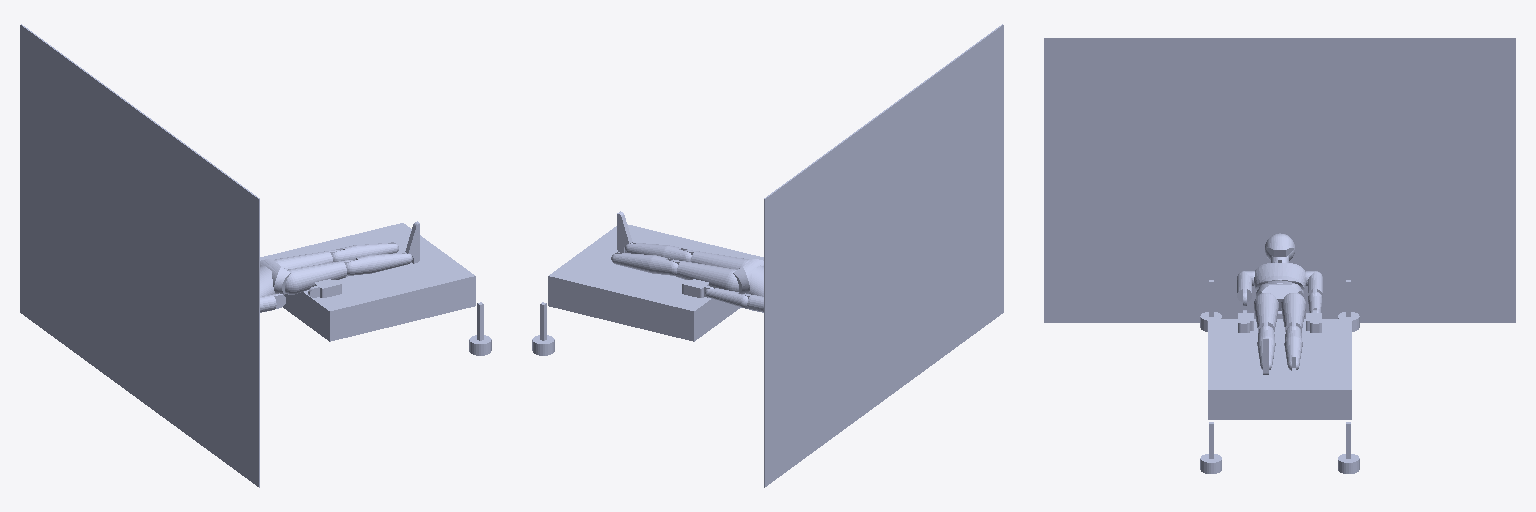
--- Render facts (derived) ---
3 views of the same robot in one strip: view 1: azimuth 30°, elevation 25°; view 2: azimuth 150°, elevation 25°; view 3: azimuth 270°, elevation 25° (orthographic).
Model bed_and_body_v3 with 26 links and 25 joints (20 revolute, 3 prismatic, 2 fixed), rooted at base_link, posed every joint at zero.
Visible links, largest first — view 1: wall_link, leg_rest_lower_link, leg_rest_upper_link, quad_right_link, calf_right_link, calf_left_link, quad_left_link, base_link; view 2: wall_link, leg_rest_lower_link, leg_rest_upper_link, quad_left_link, calf_left_link, calf_right_link, quad_right_link, base_link; view 3: wall_link, leg_rest_lower_link, leg_rest_upper_link, base_link, upper_body_link, quad_left_link, quad_right_link, calf_left_link, head_link.
Boxes of the visible links, box(x1,y1,x2,y2) form: wall_link: box(20, 24, 259, 487); leg_rest_lower_link: box(309, 223, 475, 328); leg_rest_upper_link: box(260, 246, 380, 341); quad_right_link: box(285, 260, 352, 294); calf_right_link: box(346, 253, 412, 275); calf_left_link: box(332, 242, 398, 261); quad_left_link: box(274, 250, 339, 269); base_link: box(469, 302, 491, 355); wall_link: box(764, 24, 1003, 487); leg_rest_lower_link: box(548, 224, 714, 328); leg_rest_upper_link: box(643, 246, 763, 341); quad_left_link: box(671, 260, 738, 291); calf_left_link: box(611, 252, 677, 275); calf_right_link: box(625, 242, 691, 261); quad_right_link: box(684, 250, 749, 269); base_link: box(532, 302, 554, 355); wall_link: box(1044, 38, 1515, 322); leg_rest_lower_link: box(1208, 344, 1351, 419); leg_rest_upper_link: box(1208, 319, 1351, 343); base_link: box(1200, 280, 1359, 473); upper_body_link: box(1254, 263, 1305, 291); quad_left_link: box(1281, 293, 1305, 332); quad_right_link: box(1254, 293, 1278, 332); calf_left_link: box(1284, 326, 1302, 370); head_link: box(1265, 233, 1294, 260).
Size in the robot's own frame: 2.29 by 3 by 2 metres.
Meshes: 24 distinct files referenced, 19 mesh visuals loaded (19 binary STL); not drawn: 5 (reference not matched to a file when rendering).

The robot description file, URDF, robot "bed_and_body_v3":
<robot
  name="bed_and_body_v3">
  <link
    name="base_link">
    <inertial>
      <origin
        xyz="1.07 -1.1433776843867E-16 0.0654891108010717"
        rpy="0 0 0" />
      <mass
        value="5.8260172808288" />
      <inertia
        ixx="1.14927006759014"
        ixy="4.44089209850063E-16"
        ixz="-2.75515108570424E-16"
        iyy="6.70434113225239"
        iyz="-1.34851165646458E-15"
        izz="7.79754704731756" />
    </inertial>
    <visual>
      <origin
        xyz="0 0 0"
        rpy="0 0 0" />
      <geometry>
        <mesh
          filename="package://hrl_base_selection/urdf/bed_and_body_v3/meshes/base_link.STL" />
      </geometry>
      <material
        name="">
        <color
          rgba="0.792156862745098 0.819607843137255 0.933333333333333 1" />
      </material>
    </visual>
    <collision>
      <origin
        xyz="0 0 0"
        rpy="0 0 0" />
      <geometry>
        <mesh
          filename="package://hrl_base_selection/urdf/bed_and_body_v3/meshes/base_link.STL" />
      </geometry>
    </collision>
  </link>
  <link
    name="wall_link">
    <inertial>
      <origin
        xyz="0. 0. 0."
        rpy="0 0 0" />
      <mass
        value="182.783" />
      <inertia
        ixx="14.1727036705024"
        ixy="3.00274731894519E-14"
        ixz="-0.582878793213973"
        iyy="75.8057802285568"
        iyz="9.93663151183257E-16"
        izz="86.6905817538877" />
    </inertial>
    <visual>
      <origin
        xyz="0 0 0"
        rpy="0 0 0" />
      <geometry>
        <mesh
          filename="package://hrl_base_selection/urdf/bed_and_body_v3/meshes/wall.stl" />
      </geometry>
      <material
        name="">
        <color
          rgba="0.792156862745098 0.819607843137255 0.933333333333333 1" />
      </material>
    </visual>
    <collision>
      <origin
        xyz="0 0 0"
        rpy="0 0 0" />
      <geometry>
        <mesh
          filename="package://hrl_base_selection/urdf/bed_and_body_v3/meshes/wall.stl" />
      </geometry>
    </collision>
  </link>
  <joint
    name="origin_wall_joint"
    type="fixed">
    <origin
      xyz="-.075 0. 0"
      rpy="0. 0. 0." />
    <parent
      link="base_link" />
    <child
      link="wall_link" />
    <axis
      xyz="0 0 0" />
  </joint>
  <link
    name="bed_frame_link">
    <inertial>
      <origin
        xyz="1.0399 -0.27375 0.088166"
        rpy="0 0 0" />
      <mass
        value="182.783" />
      <inertia
        ixx="14.1727036705024"
        ixy="3.00274731894519E-14"
        ixz="-0.582878793213973"
        iyy="75.8057802285568"
        iyz="9.93663151183257E-16"
        izz="86.6905817538877" />
    </inertial>
    <visual>
      <origin
        xyz="0 0 0"
        rpy="0 0 0" />
      <geometry>
        <mesh
          filename="package://hrl_base_selection/urdf/bed_and_body_v3/meshes/bed_frame_link.STL" />
      </geometry>
      <material
        name="">
        <color
          rgba="0.792156862745098 0.819607843137255 0.933333333333333 1" />
      </material>
    </visual>
    <collision>
      <origin
        xyz="0 0 0"
        rpy="0 0 0" />
      <geometry>
        <mesh
          filename="package://hrl_base_selection/urdf/bed_and_body_v3/meshes/bed_frame_link.STL" />
      </geometry>
    </collision>
  </link>
  <joint
    name="tele_legs_joint"
    type="prismatic">
    <origin
      xyz="-0.02 .27375 0.2805"
      rpy="0 0 0" />
    <parent
      link="base_link" />
    <child
      link="bed_frame_link" />
    <axis
      xyz="0 0 1" />
    <limit
      lower="-1"
      upper="1"
      effort="0"
      velocity="0" />
  </joint>
  <link
    name="head_rest_link">
    <inertial>
      <origin
        xyz="0.372569569871449 -0.0933538492374752 -3.9665323774659E-16"
        rpy="0 0 0" />
      <mass
        value="152.153755040103" />
      <inertia
        ixx="11.3335835372931"
        ixy="0.223420816611719"
        ixz="-1.53371591687193E-15"
        iyy="16.9421346103201"
        iyz="-3.30400962622086E-15"
        izz="7.04456355370477" />
    </inertial>
    <visual>
      <origin
        xyz="0 0 0"
        rpy="0 0 0" />
      <geometry>
        <mesh
          filename="package://hrl_base_selection/urdf/bed_and_body_v3/meshes/head_rest_link.STL" />
      </geometry>
      <material
        name="">
        <color
          rgba="0.792156862745098 0.819607843137255 0.933333333333333 1" />
      </material>
    </visual>
    <collision>
      <origin
        xyz="0 0 0"
        rpy="0 0 0" />
      <geometry>
        <mesh
          filename="package://hrl_base_selection/urdf/bed_and_body_v3/meshes/head_rest_link.STL" />
      </geometry>
    </collision>
  </link>
  <joint
    name="head_rest_hinge"
    type="revolute">
    <origin
      xyz="0.775 -.27375 0.26"
      rpy="1.5708 1.0561E-10 3.1416" />
    <parent
      link="bed_frame_link" />
    <child
      link="head_rest_link" />
    <axis
      xyz="0 0 1" />
    <limit
      lower="-2"
      upper="2"
      effort="0"
      velocity="0" />
  </joint>
  <link
    name="head_updown_translation_link">
    <inertial>
      <origin
        xyz="0.102906766161206 -9.91266292424373E-09 -0.0297782124304694"
        rpy="0 0 0" />
      <mass
        value="3.9328527892651" />
      <inertia
        ixx="0.0179544834914724"
        ixy="-5.43457600009831E-10"
        ixz="-0.00240657860486129"
        iyy="0.0177023015774365"
        iyz="-5.46748238349167E-09"
        izz="0.0152180232656692" />
    </inertial>
  </link>
  <joint
    name="head_bed_updown_joint"
    type="prismatic">
    <origin
      xyz="0.49949 0.05 0"
      rpy="1.5708 -2.9674E-16 1.5708" />
    <parent
      link="head_rest_link" />
    <child
      link="head_updown_translation_link" />
    <axis
      xyz="0 0 -1" />
    <limit
      lower="-2"
      upper="2"
      effort="0"
      velocity="0" />
  </joint>
  <link
    name="head_leftright_translation_link">
    <inertial>
      <origin
        xyz="0.102906766161206 0.0297782124304694 -9.912662920814E-09"
        rpy="0 0 0" />
      <mass
        value="3.9328527892651" />
      <inertia
        ixx="0.0179544834914724"
        ixy="0.00240657860486129"
        ixz="-5.43457600415785E-10"
        iyy="0.0152180232656692"
        iyz="5.46748238053038E-09"
        izz="0.0177023015774365" />
    </inertial>
  </link>
  <joint
    name="head_bed_leftright_joint"
    type="prismatic">
    <origin
      xyz="0 0 0"
      rpy="-1.5708 -1.0548E-16 7.5835E-18" />
    <parent
      link="head_updown_translation_link" />
    <child
      link="head_leftright_translation_link" />
    <axis
      xyz="0 0 1" />
    <limit
      lower="-2"
      upper="2"
      effort="0"
      velocity="0" />
  </joint>
  <link
    name="head_link">
    <inertial>
      <origin
        xyz="0.00931747164111318 -9.91266701204326E-09 0.0105706865051194"
        rpy="0 0 0" />
      <mass
        value="3.9328527892651" />
      <inertia
        ixx="0.0165678861121358"
        ixy="8.90148620513218E-10"
        ixz="-0.0027682732644648"
        iyy="0.0177023015774365"
        iyz="-5.42183952528328E-09"
        izz="0.0166046206450058" />
    </inertial>
    <visual>
      <origin
        xyz="0 0 0"
        rpy="0 0 0" />
      <geometry>
        <mesh
          filename="package://hrl_base_selection/urdf/bed_and_body_v3/meshes/head_link.STL" />
      </geometry>
      <material
        name="">
        <color
          rgba="0.792156862745098 0.819607843137255 0.933333333333333 1" />
      </material>
    </visual>
    <collision>
      <origin
        xyz="0 0 0"
        rpy="0 0 0" />
      <geometry>
        <mesh
          filename="package://hrl_base_selection/urdf/bed_and_body_v3/meshes/head_link.STL" />
      </geometry>
    </collision>
  </link>
  <joint
    name="head_contact_to_head_center"
    type="fixed">
    <origin
      xyz="0.091171 0.037577 0"
      rpy="1.5708 -3.0499E-16 0.2618" />
    <parent
      link="head_leftright_translation_link" />
    <child
      link="head_link" />
    <axis
      xyz="0 0 0" />
  </joint>
  <link
    name="neck_rotation">
    <inertial>
      <origin
        xyz="0.0299911113671753 -1.13479703411912E-09 5.25989263663437E-09"
        rpy="0 0 0" />
      <mass
        value="1.53148702191926" />
      <inertia
        ixx="0.00269322706497261"
        ixy="1.09857620830128E-10"
        ixz="7.58048241070777E-10"
        iyy="0.00564516811473134"
        iyz="9.21844170034423E-09"
        izz="0.00511128582091916" />
    </inertial>
    <visual>
      <origin
        xyz="0 0 0"
        rpy="0 0 0" />
      <geometry>
        <mesh
          filename="package://hrl_base_selection/urdf/bed_and_body_v3/meshes/neck_rotation.STL" />
      </geometry>
      <material
        name="">
        <color
          rgba="0.792156862745098 0.819607843137255 0.933333333333333 1" />
      </material>
    </visual>
    <collision>
      <origin
        xyz="0 0 0"
        rpy="0 0 0" />
      <geometry>
        <mesh
          filename="package://hrl_base_selection/urdf/bed_and_body_v3/meshes/neck_rotation.STL" />
      </geometry>
    </collision>
  </link>
  <joint
    name="head_neck_joint1"
    type="revolute">
    <origin
      xyz="-0.0254 0 -0.08509"
      rpy="-1.5708 1.1345 -3.1416" />
    <parent
      link="head_link" />
    <child
      link="neck_rotation" />
    <axis
      xyz="0 0 1" />
    <limit
      lower="-2"
      upper="2"
      effort="0"
      velocity="0" />
  </joint>
  <link
    name="neck_link">
    <inertial>
      <origin
        xyz="0.0299911113671752 -1.13479703411912E-09 5.2598925958448E-09"
        rpy="0 0 0" />
      <mass
        value="1.53148702191926" />
      <inertia
        ixx="0.00269322706497261"
        ixy="1.09857618011203E-10"
        ixz="7.58048239319453E-10"
        iyy="0.00564516811473135"
        iyz="9.2184417026311E-09"
        izz="0.00511128582091917" />
    </inertial>
    <visual>
      <origin
        xyz="0 0 0"
        rpy="0 0 0" />
      <geometry>
        <mesh
          filename="package://hrl_base_selection/urdf/bed_and_body_v3/meshes/neck_link.STL" />
      </geometry>
      <material
        name="">
        <color
          rgba="0.792156862745098 0.819607843137255 0.933333333333333 1" />
      </material>
    </visual>
    <collision>
      <origin
        xyz="0 0 0"
        rpy="0 0 0" />
      <geometry>
        <mesh
          filename="package://hrl_base_selection/urdf/bed_and_body_v3/meshes/neck_link.STL" />
      </geometry>
    </collision>
  </link>
  <joint
    name="head_neck_joint2"
    type="revolute">
    <origin
      xyz="0 0 0"
      rpy="0 3.1554E-30 0" />
    <parent
      link="neck_rotation" />
    <child
      link="neck_link" />
    <axis
      xyz="0 0 1" />
    <limit
      lower="-2"
      upper="2"
      effort="0"
      velocity="0" />
  </joint>
  <link
    name="upper_body_link">
    <inertial>
      <origin
        xyz="0.158709266111028 -2.77439784790445E-06 1.07349517852832E-06"
        rpy="0 0 0" />
      <mass
        value="10.994324812456" />
      <inertia
        ixx="0.0988263493770442"
        ixy="1.38503182626169E-06"
        ixz="-6.9051458787949E-07"
        iyy="0.107887273916327"
        iyz="1.87457468166473E-07"
        izz="0.0771158536159493" />
    </inertial>
    <visual>
      <origin
        xyz="0 0 0"
        rpy="0 0 0" />
      <geometry>
        <mesh
          filename="package://hrl_base_selection/urdf/bed_and_body_v3/meshes/upper_body_link.STL" />
      </geometry>
      <material
        name="">
        <color
          rgba="0.792156862745098 0.819607843137255 0.933333333333333 1" />
      </material>
    </visual>
    <collision>
      <origin
        xyz="0 0 0"
        rpy="0 0 0" />
      <geometry>
        <mesh
          filename="package://hrl_base_selection/urdf/bed_and_body_v3/meshes/upper_body_link.STL" />
      </geometry>
    </collision>
  </link>
  <joint
    name="neck_body_joint"
    type="revolute">
    <origin
      xyz="0.07239 0 0"
      rpy="-8.8242E-17 -8.2927E-14 0.66506" />
    <parent
      link="neck_link" />
    <child
      link="upper_body_link" />
    <axis
      xyz="0 0 -1" />
    <limit
      lower="-2"
      upper="2"
      effort="0"
      velocity="0" />
  </joint>
  <link
    name="mid_body_link">
    <inertial>
      <origin
        xyz="-0.0123598486303793 -2.47973091949127E-07 4.77082923404006E-06"
        rpy="0 0 0" />
      <mass
        value="6.7659491084038" />
      <inertia
        ixx="0.0508733259634872"
        ixy="-3.30920427328747E-07"
        ixz="-1.38996093328425E-06"
        iyy="0.0489774373986986"
        iyz="-1.12269337166179E-05"
        izz="0.0317417004953391" />
    </inertial>
    <visual>
      <origin
        xyz="0 0 0"
        rpy="0 0 0" />
      <geometry>
        <mesh
          filename="package://hrl_base_selection/urdf/bed_and_body_v3/meshes/mid_body_link.STL" />
      </geometry>
      <material
        name="">
        <color
          rgba="0.792156862745098 0.819607843137255 0.933333333333333 1" />
      </material>
    </visual>
    <collision>
      <origin
        xyz="0 0 0"
        rpy="0 0 0" />
      <geometry>
        <mesh
          filename="package://hrl_base_selection/urdf/bed_and_body_v3/meshes/mid_body_link.STL" />
      </geometry>
    </collision>
  </link>
  <joint
    name="upper_mid_body_joint"
    type="revolute">
    <origin
      xyz="0.35052 0 0"
      rpy="2.8327E-14 7.7949E-14 0.34907" />
    <parent
      link="upper_body_link" />
    <child
      link="mid_body_link" />
    <axis
      xyz="0 0 -1" />
    <limit
      lower="-2"
      upper="2"
      effort="0"
      velocity="0" />
  </joint>
  <link
    name="lower_body_link">
    <inertial>
      <origin
        xyz="-0.0424892964347593 -1.55212564689755E-07 -3.05517167826124E-08"
        rpy="0 0 0" />
      <mass
        value="3.76095443118537" />
      <inertia
        ixx="0.0264188029132303"
        ixy="5.26534020954018E-07"
        ixz="1.13275130192356E-08"
        iyy="0.021880217675706"
        iyz="6.6476429005472E-06"
        izz="0.0115760285735275" />
    </inertial>
    <visual>
      <origin
        xyz="0 0 0"
        rpy="0 0 0" />
      <geometry>
        <mesh
          filename="package://hrl_base_selection/urdf/bed_and_body_v3/meshes/lower_body_link.STL" />
      </geometry>
      <material
        name="">
        <color
          rgba="0.792156862745098 0.819607843137255 0.933333333333333 1" />
      </material>
    </visual>
    <collision>
      <origin
        xyz="0 0 0"
        rpy="0 0 0" />
      <geometry>
        <mesh
          filename="package://hrl_base_selection/urdf/bed_and_body_v3/meshes/lower_body_link.STL" />
      </geometry>
    </collision>
  </link>
  <joint
    name="mid_lower_body_joint"
    type="revolute">
    <origin
      xyz="0.15113 0 0"
      rpy="-4.3091E-16 1.669E-15 -0.57779" />
    <parent
      link="mid_body_link" />
    <child
      link="lower_body_link" />
    <axis
      xyz="0 0 -1" />
    <limit
      lower="-2"
      upper="2"
      effort="0"
      velocity="0" />
  </joint>
  <link
    name="quad_left_link">
    <inertial>
      <origin
        xyz="0.135870836223123 0.036406480838746 1.20320420293751E-14"
        rpy="0 0 0" />
      <mass
        value="6.89674952703915" />
      <inertia
        ixx="0.0241142535313263"
        ixy="0.0272592576621165"
        ixz="-8.25751406148771E-11"
        iyy="0.118543092031703"
        iyz="3.08210707771496E-10"
        izz="0.126021276865764" />
    </inertial>
    <visual>
      <origin
        xyz="0 0 0"
        rpy="0 0 0" />
      <geometry>
        <mesh
          filename="package://hrl_base_selection/urdf/bed_and_body_v3/meshes/quad_left_link.STL" />
      </geometry>
      <material
        name="">
        <color
          rgba="0.792156862745098 0.819607843137255 0.933333333333333 1" />
      </material>
    </visual>
    <collision>
      <origin
        xyz="0 0 0"
        rpy="0 0 0" />
      <geometry>
        <mesh
          filename="package://hrl_base_selection/urdf/bed_and_body_v3/meshes/quad_left_link.STL" />
      </geometry>
    </collision>
  </link>
  <joint
    name="body_quad_left_joint"
    type="revolute">
    <origin
      xyz="0.05207 0 -0.08636"
      rpy="-3.1554E-30 -3.1554E-30 -2.7756E-17" />
    <parent
      link="lower_body_link" />
    <child
      link="quad_left_link" />
    <axis
      xyz="0 0 1" />
    <limit
      lower="-3."
      upper="3."
      effort="0"
      velocity="0" />
  </joint>
  <link
    name="calf_left_link">
    <inertial>
      <origin
        xyz="-0.180906642816524 -0.0139713255979246 1.60067792354113E-12"
        rpy="0 0 0" />
      <mass
        value="3.39536669784164" />
      <inertia
        ixx="0.0049226177583511"
        ixy="0.00333413184068126"
        ixz="1.26232091450053E-12"
        iyy="0.0478368760783845"
        iyz="-4.13932285075363E-12"
        izz="0.0478732548846709" />
    </inertial>
    <visual>
      <origin
        xyz="0 0 0"
        rpy="0 0 0" />
      <geometry>
        <mesh
          filename="package://hrl_base_selection/urdf/bed_and_body_v3/meshes/calf_left_link.STL" />
      </geometry>
      <material
        name="">
        <color
          rgba="0.792156862745098 0.819607843137255 0.933333333333333 1" />
      </material>
    </visual>
    <collision>
      <origin
        xyz="0 0 0"
        rpy="0 0 0" />
      <geometry>
        <mesh
          filename="package://hrl_base_selection/urdf/bed_and_body_v3/meshes/calf_left_link.STL" />
      </geometry>
    </collision>
  </link>
  <joint
    name="quad_calf_left_joint"
    type="revolute">
    <origin
      xyz="0.41218 0.11044 0"
      rpy="3.1416 8.5469E-14 -2.8798" />
    <parent
      link="quad_left_link" />
    <child
      link="calf_left_link" />
    <axis
      xyz="0 0 1" />
    <limit
      lower="-3."
      upper="3."
      effort="0"
      velocity="0" />
  </joint>
  <link
    name="foot_left_link">
    <inertial>
      <origin
        xyz="-0.0475610965067932 0.0816676483447464 -4.16333634234434E-17"
        rpy="0 0 0" />
      <mass
        value="0.615189243278472" />
      <inertia
        ixx="0.00304936402573348"
        ixy="-0.000154899374275574"
        ixz="1.7446046542978E-19"
        iyy="0.000412328810634253"
        iyz="-3.97105362266834E-20"
        izz="0.00332455031530266" />
    </inertial>
    <visual>
      <origin
        xyz="0 0 0"
        rpy="0 0 0" />
      <geometry>
        <mesh
          filename="package://hrl_base_selection/urdf/bed_and_body_v3/meshes/foot_left_link.STL" />
      </geometry>
      <material
        name="">
        <color
          rgba="0.792156862745098 0.819607843137255 0.933333333333333 1" />
      </material>
    </visual>
    <collision>
      <origin
        xyz="0 0 0"
        rpy="0 0 0" />
      <geometry>
        <mesh
          filename="package://hrl_base_selection/urdf/bed_and_body_v3/meshes/foot_left_link.STL" />
      </geometry>
    </collision>
  </link>
  <joint
    name="calf_foot_left_joint"
    type="revolute">
    <origin
      xyz="-0.41279 -0.03188 0"
      rpy="2.4608E-16 9.411E-16 0.077076" />
    <parent
      link="calf_left_link" />
    <child
      link="foot_left_link" />
    <axis
      xyz="0 0 1" />
    <limit
      lower="-3."
      upper="3."
      effort="0"
      velocity="0" />
  </joint>
  <link
    name="quad_right_link">
    <inertial>
      <origin
        xyz="0.13587083622245 0.0364064808391208 1.19904086659517E-14"
        rpy="0 0 0" />
      <mass
        value="6.89674952703915" />
      <inertia
        ixx="0.024114253531194"
        ixy="0.0272592576618873"
        ixz="-8.2575179988774E-11"
        iyy="0.118543092031835"
        iyz="3.08210697239393E-10"
        izz="0.126021276865764" />
    </inertial>
    <visual>
      <origin
        xyz="0 0 0"
        rpy="0 0 0" />
      <geometry>
        <mesh
          filename="package://hrl_base_selection/urdf/bed_and_body_v3/meshes/quad_right_link.STL" />
      </geometry>
      <material
        name="">
        <color
          rgba="0.792156862745098 0.819607843137255 0.933333333333333 1" />
      </material>
    </visual>
    <collision>
      <origin
        xyz="0 0 0"
        rpy="0 0 0" />
      <geometry>
        <mesh
          filename="package://hrl_base_selection/urdf/bed_and_body_v3/meshes/quad_right_link.STL" />
      </geometry>
    </collision>
  </link>
  <joint
    name="body_quad_right_joint"
    type="revolute">
    <origin
      xyz="0.05207 0 0.08636"
      rpy="-3.1554E-30 -3.1554E-30 -2.7756E-17" />
    <parent
      link="lower_body_link" />
    <child
      link="quad_right_link" />
    <axis
      xyz="0 0 1" />
    <limit
      lower="-3"
      upper="3"
      effort="0"
      velocity="0" />
  </joint>
  <link
    name="calf_right_link">
    <inertial>
      <origin
        xyz="-0.180906642816537 -0.0139713255970793 1.60067792354113E-12"
        rpy="0 0 0" />
      <mass
        value="3.39536669784164" />
      <inertia
        ixx="0.00492261775832246"
        ixy="0.00333413184049699"
        ixz="1.26236389002121E-12"
        iyy="0.0478368760784132"
        iyz="-4.13931941107381E-12"
        izz="0.0478732548846708" />
    </inertial>
    <visual>
      <origin
        xyz="0 0 0"
        rpy="0 0 0" />
      <geometry>
        <mesh
          filename="package://hrl_base_selection/urdf/bed_and_body_v3/meshes/calf_right_link.STL" />
      </geometry>
      <material
        name="">
        <color
          rgba="0.792156862745098 0.819607843137255 0.933333333333333 1" />
      </material>
    </visual>
    <collision>
      <origin
        xyz="0 0 0"
        rpy="0 0 0" />
      <geometry>
        <mesh
          filename="package://hrl_base_selection/urdf/bed_and_body_v3/meshes/calf_right_link.STL" />
      </geometry>
    </collision>
  </link>
  <joint
    name="quad_calf_right_joint"
    type="revolute">
    <origin
      xyz="0.41218 0.11044 0"
      rpy="3.1416 8.5225E-14 -2.8798" />
    <parent
      link="quad_right_link" />
    <child
      link="calf_right_link" />
    <axis
      xyz="0 0 1" />
    <limit
      lower="-3"
      upper="3"
      effort="0"
      velocity="0" />
  </joint>
  <link
    name="foot_right_link">
    <inertial>
      <origin
        xyz="-0.0475610965067859 0.0816676483447651 1.38777878078145E-17"
        rpy="0 0 0" />
      <mass
        value="0.615189243278473" />
      <inertia
        ixx="0.00304936402573348"
        ixy="-0.000154899374275576"
        ixz="-2.68019252719947E-19"
        iyy="0.000412328810634254"
        iyz="3.53080400658611E-18"
        izz="0.00332455031530267" />
    </inertial>
    <visual>
      <origin
        xyz="0 0 0"
        rpy="0 0 0" />
      <geometry>
        <mesh
          filename="package://hrl_base_selection/urdf/bed_and_body_v3/meshes/foot_right_link.STL" />
      </geometry>
      <material
        name="">
        <color
          rgba="0.792156862745098 0.819607843137255 0.933333333333333 1" />
      </material>
    </visual>
    <collision>
      <origin
        xyz="0 0 0"
        rpy="0 0 0" />
      <geometry>
        <mesh
          filename="package://hrl_base_selection/urdf/bed_and_body_v3/meshes/foot_right_link.STL" />
      </geometry>
    </collision>
  </link>
  <joint
    name="calf_foot_right_joint"
    type="revolute">
    <origin
      xyz="-0.41279 -0.03188 0"
      rpy="3.3137E-27 3.7799E-26 0.077076" />
    <parent
      link="calf_right_link" />
    <child
      link="foot_right_link" />
    <axis
      xyz="0 0 1" />
    <limit
      lower="-3"
      upper="3"
      effort="0"
      velocity="0" />
  </joint>
  <link
    name="arm_left_link">
    <inertial>
      <origin
        xyz="0.1001623892808 -0.00376860746206564 -0.0415301013139193"
        rpy="0 0 0" />
      <mass
        value="2.60960654017703" />
      <inertia
        ixx="0.00404950781774846"
        ixy="-0.000794518553713614"
        ixz="-0.00213077537777598"
        iyy="0.0251366223518226"
        iyz="8.01649819245336E-05"
        izz="0.0243099855919405" />
    </inertial>
    <visual>
      <origin
        xyz="0 0 0"
        rpy="0 0 0" />
      <geometry>
        <mesh
          filename="package://hrl_base_selection/urdf/bed_and_body_v3/meshes/arm_left_link.STL" />
      </geometry>
      <material
        name="">
        <color
          rgba="0.792156862745098 0.819607843137255 0.933333333333333 1" />
      </material>
    </visual>
    <collision>
      <origin
        xyz="0 0 0"
        rpy="0 0 0" />
      <geometry>
        <mesh
          filename="package://hrl_base_selection/urdf/bed_and_body_v3/meshes/arm_left_link.STL" />
      </geometry>
    </collision>
  </link>
  <joint
    name="body_arm_left_joint"
    type="revolute">
    <origin
      xyz="0.09652 0 -0.17526"
      rpy="2.6872E-15 8.287E-14 0.033074" />
    <parent
      link="upper_body_link" />
    <child
      link="arm_left_link" />
    <axis
      xyz="0 0 1" />
    <limit
      lower="-3"
      upper="3"
      effort="0"
      velocity="0" />
  </joint>
  <link
    name="forearm_left_link">
    <inertial>
      <origin
        xyz="0.106228215345525 -1.91191507070698E-12 0"
        rpy="0 0 0" />
      <mass
        value="1.32173737819403" />
      <inertia
        ixx="0.00119534139517087"
        ixy="-1.35159335608086E-13"
        ixz="-5.04149881322934E-19"
        iyy="0.00870475374464507"
        iyz="1.19370114943691E-09"
        izz="0.00856399030741715" />
    </inertial>
    <visual>
      <origin
        xyz="0 0 0"
        rpy="0 0 0" />
      <geometry>
        <mesh
          filename="package://hrl_base_selection/urdf/bed_and_body_v3/meshes/forearm_left_link.STL" />
      </geometry>
      <material
        name="">
        <color
          rgba="0.792156862745098 0.819607843137255 0.933333333333333 1" />
      </material>
    </visual>
    <collision>
      <origin
        xyz="0 0 0"
        rpy="0 0 0" />
      <geometry>
        <mesh
          filename="package://hrl_base_selection/urdf/bed_and_body_v3/meshes/forearm_left_link.STL" />
      </geometry>
    </collision>
  </link>
  <joint
    name="arm_forearm_left_joint"
    type="revolute">
    <origin
      xyz="0.28174 -0.0106 -0.04953"
      rpy="1.1849E-16 -8.3419E-14 -1.6268E-27" />
    <parent
      link="arm_left_link" />
    <child
      link="forearm_left_link" />
    <axis
      xyz="0 0 1" />
    <limit
      lower="-3"
      upper="3"
      effort="0"
      velocity="0" />
  </joint>
  <link
    name="hand_left_link">
    <inertial>
      <origin
        xyz="0.0980143408405634 -1.86517468137026E-12 0.0049795365316434"
        rpy="0 0 0" />
      <mass
        value="1.1356241768054" />
      <inertia
        ixx="0.00131058345181311"
        ixy="-4.85702000140823E-14"
        ixz="-9.6566899557011E-05"
        iyy="0.00386297813592635"
        iyz="1.8376914107142E-15"
        izz="0.00343338240819095" />
    </inertial>
    <visual>
      <origin
        xyz="0 0 0"
        rpy="0 0 0" />
      <geometry>
        <mesh
          filename="package://hrl_base_selection/urdf/bed_and_body_v3/meshes/hand_left_link.STL" />
      </geometry>
      <material
        name="">
        <color
          rgba="0.792156862745098 0.819607843137255 0.933333333333333 1" />
      </material>
    </visual>
    <collision>
      <origin
        xyz="0 0 0"
        rpy="0 0 0" />
      <geometry>
        <mesh
          filename="package://hrl_base_selection/urdf/bed_and_body_v3/meshes/hand_left_link.STL" />
      </geometry>
    </collision>
  </link>
  <joint
    name="forearm_hand_left_joint"
    type="revolute">
    <origin
      xyz="0.25146 0 0"
      rpy="1.3447E-16 8.3999E-14 1.6283E-27" />
    <parent
      link="forearm_left_link" />
    <child
      link="hand_left_link" />
    <axis
      xyz="0 0 1" />
    <limit
      lower="-3"
      upper="3"
      effort="0"
      velocity="0" />
  </joint>
  <link
    name="arm_right_link">
    <inertial>
      <origin
        xyz="0.100233262071747 3.52074113196821E-08 0.041530101413327"
        rpy="0 0 0" />
      <mass
        value="2.60960651501635" />
      <inertia
        ixx="0.00401961437786645"
        ixy="-7.60885930854E-10"
        ixz="0.00213228273829607"
        iyy="0.0251665155968144"
        iyz="-4.35824513311461E-09"
        izz="0.0243099854332681" />
    </inertial>
    <visual>
      <origin
        xyz="0 0 0"
        rpy="0 0 0" />
      <geometry>
        <mesh
          filename="package://hrl_base_selection/urdf/bed_and_body_v3/meshes/arm_right_link.STL" />
      </geometry>
      <material
        name="">
        <color
          rgba="0.792156862745098 0.819607843137255 0.933333333333333 1" />
      </material>
    </visual>
    <collision>
      <origin
        xyz="0 0 0"
        rpy="0 0 0" />
      <geometry>
        <mesh
          filename="package://hrl_base_selection/urdf/bed_and_body_v3/meshes/arm_right_link.STL" />
      </geometry>
    </collision>
  </link>
  <joint
    name="body_arm_right_joint"
    type="revolute">
    <origin
      xyz="0.09652 0 0.17526"
      rpy="-3.0757E-16 8.2843E-14 -0.0045332" />
    <parent
      link="upper_body_link" />
    <child
      link="arm_right_link" />
    <axis
      xyz="0 0 1" />
    <limit
      lower="-3"
      upper="3"
      effort="0"
      velocity="0" />
  </joint>
  <link
    name="forearm_right_link">
    <inertial>
      <origin
        xyz="0.106228216482346 -1.30587407554117E-09 -9.51088152678636E-10"
        rpy="0 0 0" />
      <mass
        value="1.32173736893606" />
      <inertia
        ixx="0.00119534120618663"
        ixy="1.414727832101E-10"
        ixz="1.35038570191339E-10"
        iyy="0.00870475371023631"
        iyz="1.17395654858625E-09"
        izz="0.00856399012619121" />
    </inertial>
    <visual>
      <origin
        xyz="0 0 0"
        rpy="0 0 0" />
      <geometry>
        <mesh
          filename="package://hrl_base_selection/urdf/bed_and_body_v3/meshes/forearm_right_link.STL" />
      </geometry>
      <material
        name="">
        <color
          rgba="0.792156862745098 0.819607843137255 0.933333333333333 1" />
      </material>
    </visual>
    <collision>
      <origin
        xyz="0 0 0"
        rpy="0 0 0" />
      <geometry>
        <mesh
          filename="package://hrl_base_selection/urdf/bed_and_body_v3/meshes/forearm_right_link.STL" />
      </geometry>
    </collision>
  </link>
  <joint
    name="arm_forearm_right_joint"
    type="revolute">
    <origin
      xyz="0.28194 0 0.04953"
      rpy="2.6089E-19 -8.3342E-14 0.037607" />
    <parent
      link="arm_right_link" />
    <child
      link="forearm_right_link" />
    <axis
      xyz="0 0 1" />
    <limit
      lower="-3"
      upper="3"
      effort="0"
      velocity="0" />
  </joint>
  <link
    name="hand_right_link">
    <inertial>
      <origin
        xyz="0.0980143408405629 -2.15505391309989E-12 -0.00497953653164337"
        rpy="0 0 0" />
      <mass
        value="1.13562417680541" />
      <inertia
        ixx="0.00131058345181312"
        ixy="-5.61198127715408E-14"
        ixz="9.65668995570131E-05"
        iyy="0.00386297813592636"
        iyz="-2.12313391417147E-15"
        izz="0.00343338240819096" />
    </inertial>
    <visual>
      <origin
        xyz="0 0 0"
        rpy="0 0 0" />
      <geometry>
        <mesh
          filename="package://hrl_base_selection/urdf/bed_and_body_v3/meshes/hand_right_link.STL" />
      </geometry>
      <material
        name="">
        <color
          rgba="0.792156862745098 0.819607843137255 0.933333333333333 1" />
      </material>
    </visual>
    <collision>
      <origin
        xyz="0 0 0"
        rpy="0 0 0" />
      <geometry>
        <mesh
          filename="package://hrl_base_selection/urdf/bed_and_body_v3/meshes/hand_right_link.STL" />
      </geometry>
    </collision>
  </link>
  <joint
    name="forearm_hand_right_joint"
    type="revolute">
    <origin
      xyz="0.25146 0 0"
      rpy="1.9364E-14 8.3335E-14 1.6151E-27" />
    <parent
      link="forearm_right_link" />
    <child
      link="hand_right_link" />
    <axis
      xyz="0 0 1" />
    <limit
      lower="-3"
      upper="3"
      effort="0"
      velocity="0" />
  </joint>
  <link
    name="leg_rest_upper_link">
    <inertial>
      <origin
        xyz="0.184999999999909 0.105000000000441 -2.76269761501025E-16"
        rpy="0 0 0" />
      <mass
        value="71.0955" />
      <inertia
        ixx="5.221520128125"
        ixy="-6.98374142907244E-13"
        ixz="-6.34687481067045E-16"
        iyy="5.771325328125"
        iyz="-1.36920550145777E-16"
        izz="1.072357125" />
    </inertial>
    <visual>
      <origin
        xyz="0 0 0"
        rpy="0 0 0" />
      <geometry>
        <mesh
          filename="package://hrl_base_selection/urdf/bed_and_body_v3/meshes/leg_rest_upper_link.STL" />
      </geometry>
      <material
        name="">
        <color
          rgba="0.792156862745098 0.819607843137255 0.933333333333333 1" />
      </material>
    </visual>
    <collision>
      <origin
        xyz="0 0 0"
        rpy="0 0 0" />
      <geometry>
        <mesh
          filename="package://hrl_base_selection/urdf/bed_and_body_v3/meshes/leg_rest_upper_link.STL" />
      </geometry>
    </collision>
  </link>
  <joint
    name="leg_rest_upper_joint"
    type="revolute">
    <origin
      xyz="1.055 -0.27375 0.05"
      rpy="1.5708 2.1987E-11 3.9465E-16" />
    <parent
      link="bed_frame_link" />
    <child
      link="leg_rest_upper_link" />
    <axis
      xyz="0 0 1" />
    <limit
      lower="-3"
      upper="3"
      effort="0"
      velocity="0" />
  </joint>
  <link
    name="leg_rest_lower_link">
    <inertial>
      <origin
        xyz="0.345000000000193 0.10499999999918 -5.70451144183548E-17"
        rpy="0 0 0" />
      <mass
        value="132.5835" />
      <inertia
        ixx="9.73742942812501"
        ixy="9.56539519154387E-17"
        ixz="2.44106387255003E-16"
        iyy="14.510435428125"
        iyz="1.11598435800825E-16"
        izz="5.747494725" />
    </inertial>
    <visual>
      <origin
        xyz="0 0 0"
        rpy="0 0 0" />
      <geometry>
        <mesh
          filename="package://hrl_base_selection/urdf/bed_and_body_v3/meshes/leg_rest_lower_link.STL" />
      </geometry>
      <material
        name="">
        <color
          rgba="0.792156862745098 0.819607843137255 0.933333333333333 1" />
      </material>
    </visual>
    <collision>
      <origin
        xyz="0 0 0"
        rpy="0 0 0" />
      <geometry>
        <mesh
          filename="package://hrl_base_selection/urdf/bed_and_body_v3/meshes/leg_rest_lower_link.STL" />
      </geometry>
    </collision>
  </link>
  <joint
    name="leg_rest_upper_lower_joint"
    type="revolute">
    <origin
      xyz="0.37 0 0"
      rpy="-3.7123E-16 5.9121E-16 3.7854E-11" />
    <parent
      link="leg_rest_upper_link" />
    <child
      link="leg_rest_lower_link" />
    <axis
      xyz="0 0 1" />
    <limit
      lower="-3"
      upper="3"
      effort="0"
      velocity="0" />
  </joint>
</robot>
